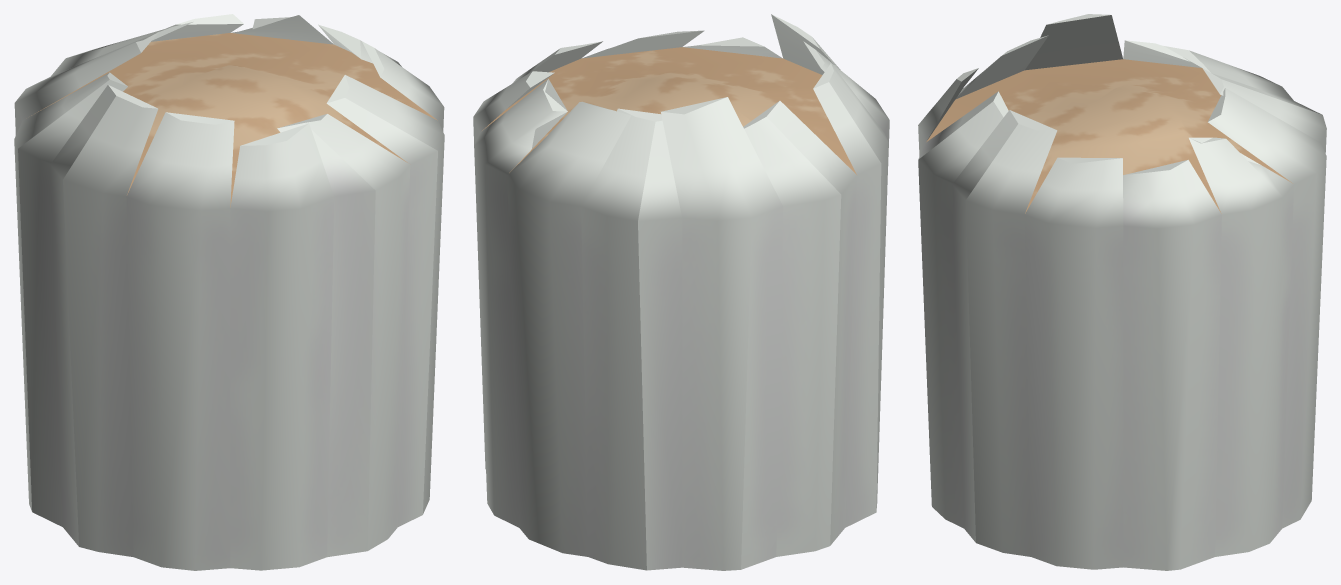
Rendered from Syumai.fbx.
3 views of the same model, side by side, from view 1: azimuth 30°, elevation 25°; view 2: azimuth 150°, elevation 25°; view 3: azimuth 270°, elevation 25° (orthographic). The views are drawn at different scales.
Parts seen in each view (by area): view 1: Syumai; view 2: Syumai; view 3: Syumai.
Boxes of the visible parts, x1=… form: Syumai: x1=14, y1=14, x2=444, y2=570; Syumai: x1=473, y1=14, x2=889, y2=570; Syumai: x1=918, y1=14, x2=1326, y2=570.
Bounding box in the file's own units: 156 × 174 × 155.
Materials: 1 (1 with a texture image).
